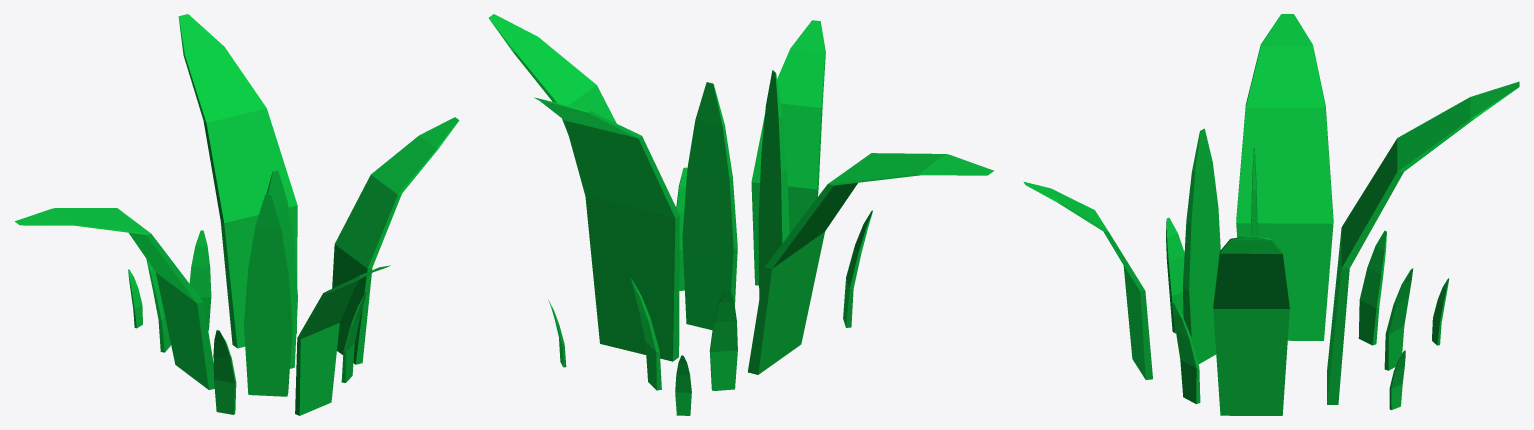
The model's file is Herbe_2.fbx.
3 views of the same model, side by side, from view 1: azimuth 30°, elevation 25°; view 2: azimuth 150°, elevation 25°; view 3: azimuth 270°, elevation 25° (orthographic). The views are drawn at different scales.
Visible parts, largest first — view 1: Herbe_2; view 2: Herbe_2; view 3: Herbe_2.
Part boxes in pixels (x1,y1,x2,y2): Herbe_2: [15, 14, 459, 415]; Herbe_2: [489, 14, 994, 415]; Herbe_2: [1023, 14, 1519, 415].
Bounding box in the file's own units: 31.2 × 18.6 × 27.52.
